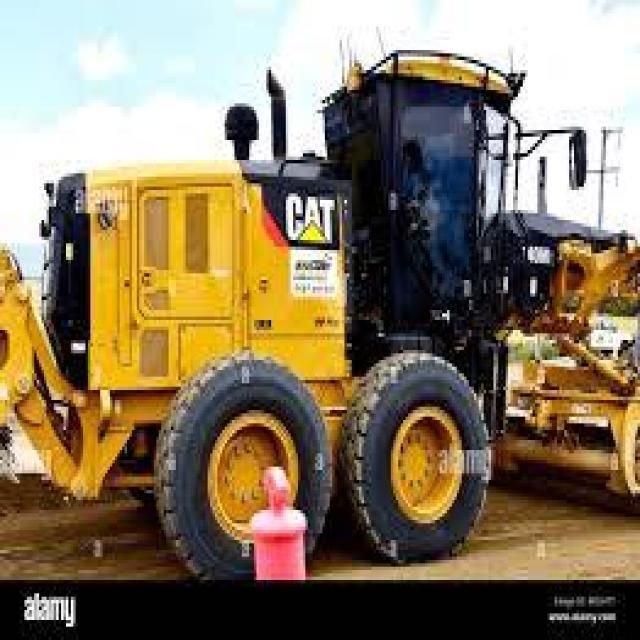buldozerpayloadergrader: (25, 34, 638, 564)
